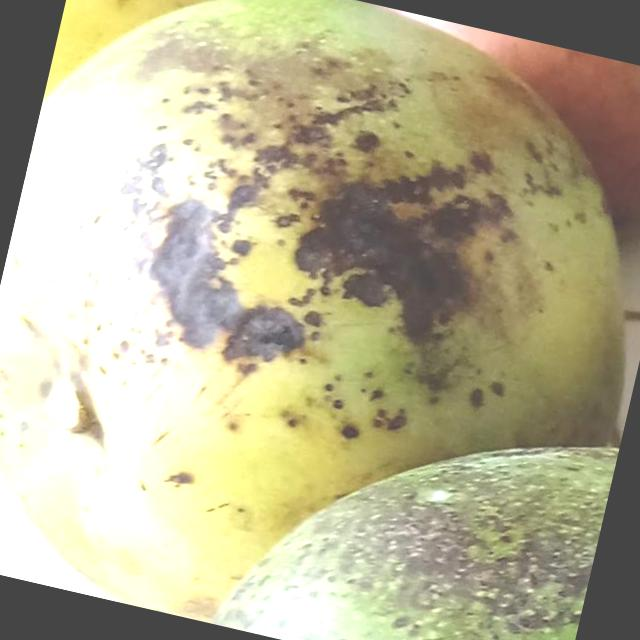Mango: (0, 0, 640, 640), (202, 361, 620, 640)
